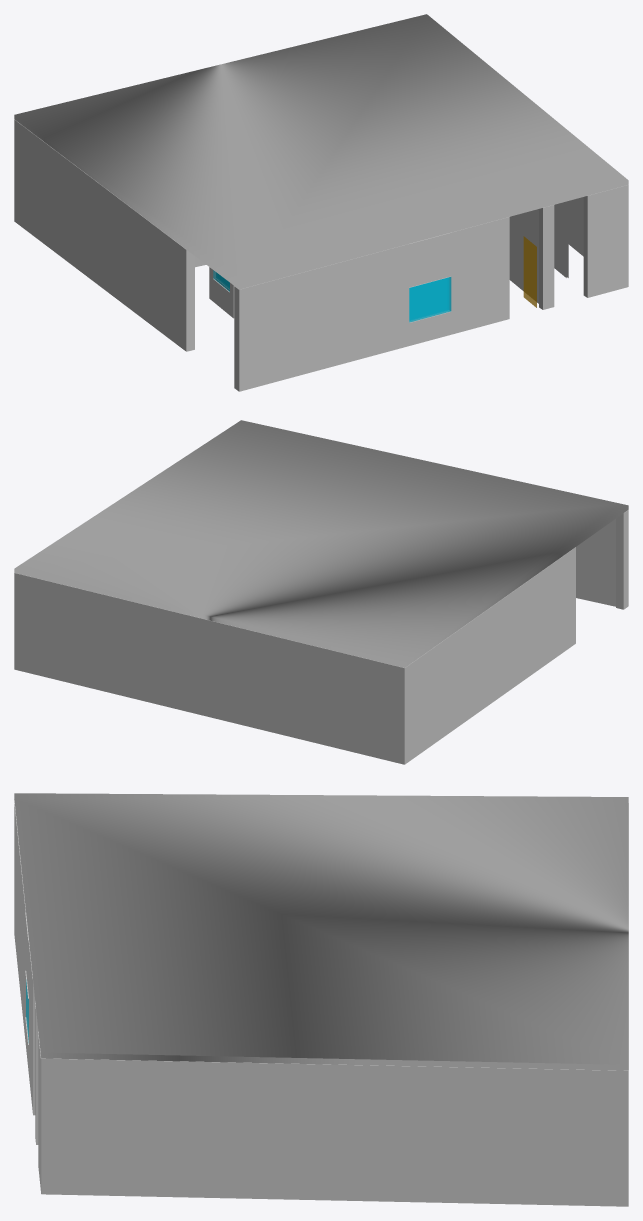
File: 88d07086-a543-4d73-a7eb-7bf8ab4abde2.glb
The picture shows the model from 3 angles, top to bottom: view 1: azimuth 30°, elevation 25°; view 2: azimuth 150°, elevation 25°; view 3: azimuth 270°, elevation 25°; orthographic projection. The views are drawn at different scales.
Visible parts, largest first — view 1: roof, walls, windows, doors; view 2: roof, walls; view 3: roof, walls.
Part boxes in pixels (left/top/right/bottom): roof: left=14, top=14, right=628, bottom=289; walls: left=14, top=119, right=628, bottom=391; windows: left=213, top=270, right=451, bottom=322; doors: left=523, top=236, right=536, bottom=307; roof: left=14, top=420, right=628, bottom=667; walls: left=14, top=510, right=628, bottom=764; roof: left=14, top=793, right=628, bottom=1070; walls: left=14, top=799, right=628, bottom=1206.
Size of the model in its own units: 15.01 by 3.65 by 14.34.
